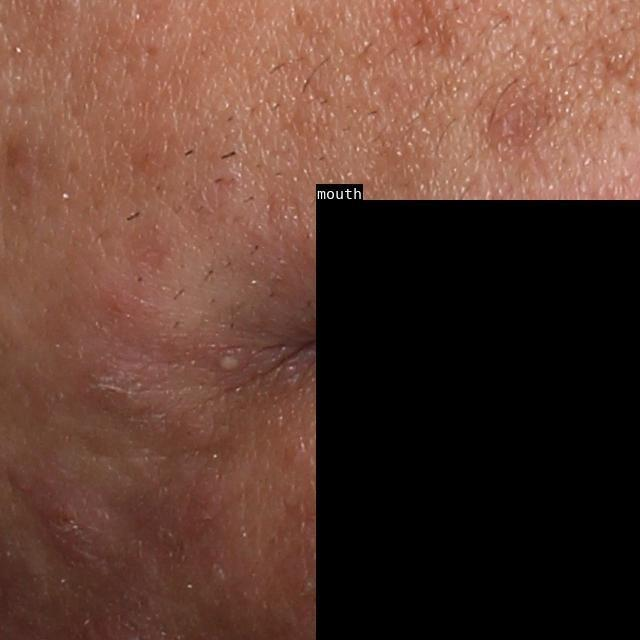papule: (16, 493, 106, 570)
pustule: (216, 346, 253, 380)
